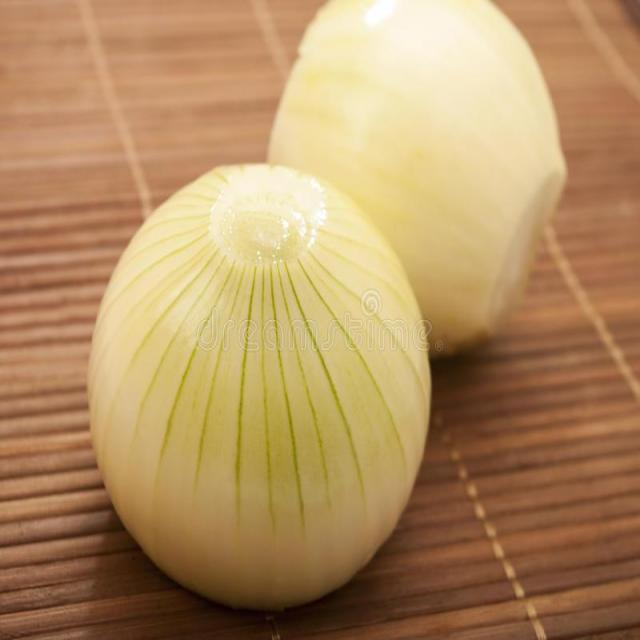Onion: (88, 160, 432, 611), (270, 2, 571, 350)
